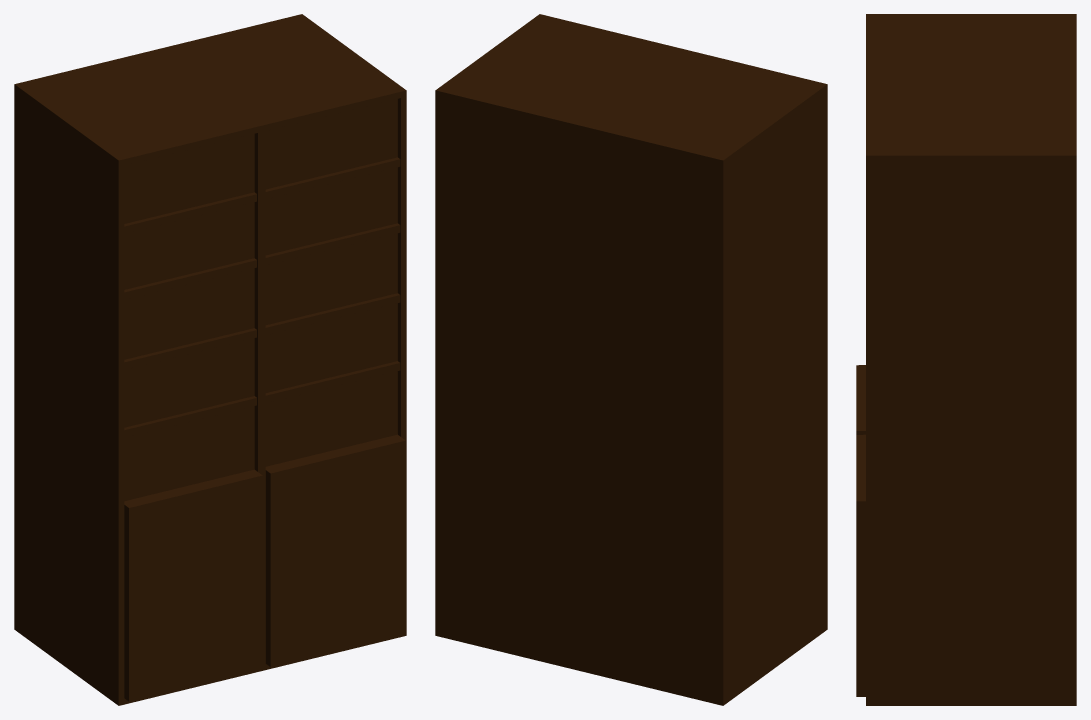
Rendered from movel_grande.fbx.
3 views of the same model, side by side, from view 1: azimuth 30°, elevation 25°; view 2: azimuth 150°, elevation 25°; view 3: azimuth 270°, elevation 25° (orthographic).
Visible parts, largest first — view 1: Cube.033; view 2: Cube.033; view 3: Cube.033.
Boxes of the visible parts, bbox=[...] form: Cube.033: bbox=[14, 14, 406, 705]; Cube.033: bbox=[435, 14, 827, 705]; Cube.033: bbox=[856, 14, 1076, 705].
Bounding box in the file's own units: 0.4357 × 0.7891 × 0.286.
